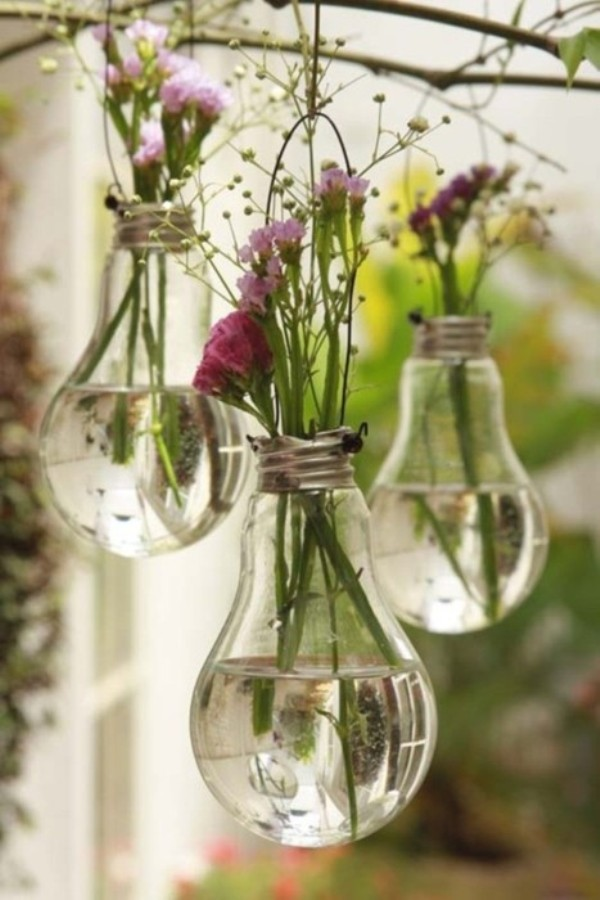Light_bulb: (183, 416, 442, 858), (35, 189, 267, 568), (352, 308, 554, 642)
